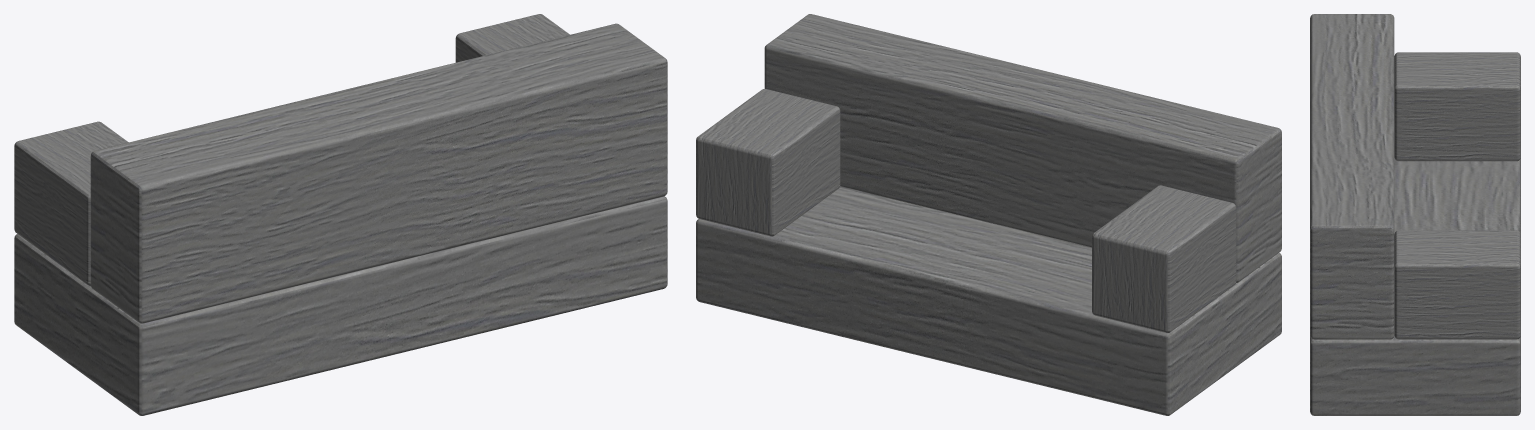
File: BenchBlock001.obj
3 renders of one model, left to right at view 1: azimuth 30°, elevation 25°; view 2: azimuth 150°, elevation 25°; view 3: azimuth 270°, elevation 25°, orthographic. The views are drawn at different scales.
Parts seen in each view (by area): view 1: pCube5; view 2: pCube5; view 3: pCube5.
Part boxes in pixels (<box>): pCube5: <box>14,14,667,415</box>; pCube5: <box>696,14,1281,415</box>; pCube5: <box>1310,14,1520,415</box>.
Size of the model in its own units: 300 by 125 by 125.
Materials: 2 (2 with a texture image).
